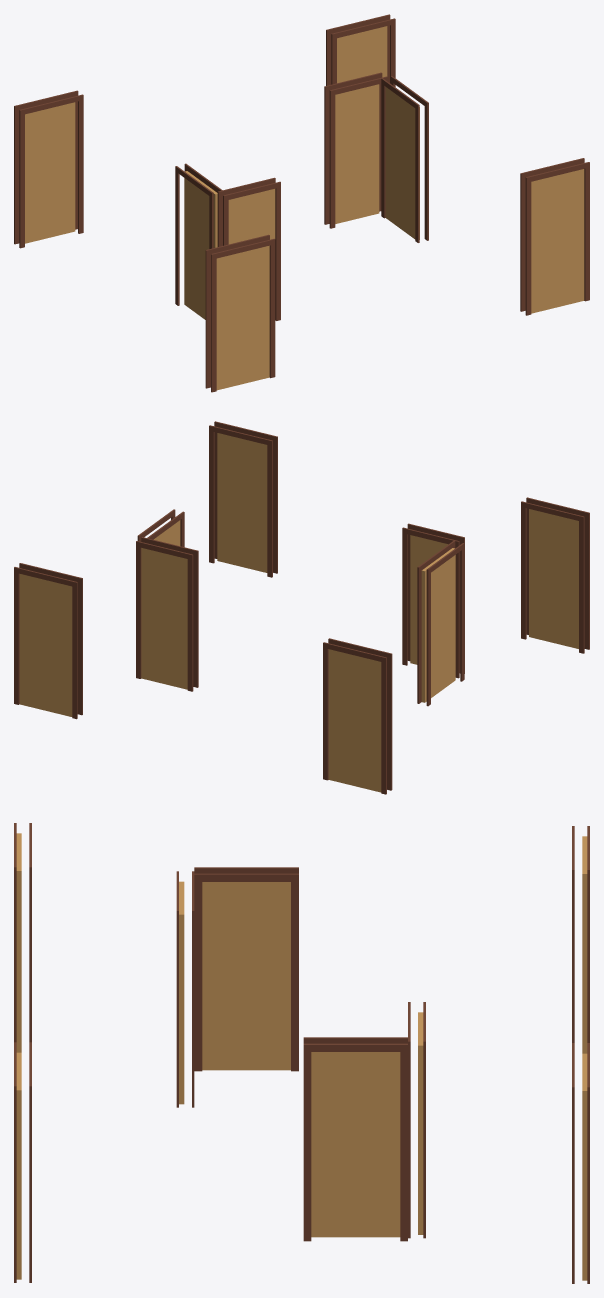
File: Duplex_A_20110907_Level_2_IfcDoor.dae
The picture shows the model from 3 angles, top to bottom: view 1: azimuth 30°, elevation 25°; view 2: azimuth 150°, elevation 25°; view 3: azimuth 270°, elevation 25°; orthographic projection. The views are drawn at different scales.
Visible parts, largest first — view 1: 2OBrcmyk58NupXoVOHUuXp, 1hOSvn6df7F8_7GcBWlSDm, 1hOSvn6df7F8_7GcBWlSFK, 1aj$VJZFn2TxepZUBcKpac, 2OBrcmyk58NupXoVOHUvPL, 2OBrcmyk58NupXoVOHUvR4, 1aj$VJZFn2TxepZUBcKp$i, 2OBrcmyk58NupXoVOHUvVV; view 2: 1hOSvn6df7F8_7GcBWlSFK, 2OBrcmyk58NupXoVOHUvVV, 1hOSvn6df7F8_7GcBWlSDm, 2OBrcmyk58NupXoVOHUuXp, 1aj$VJZFn2TxepZUBcKpac, 2OBrcmyk58NupXoVOHUvR4, 1aj$VJZFn2TxepZUBcKp$i, 2OBrcmyk58NupXoVOHUvPL; view 3: 2OBrcmyk58NupXoVOHUvR4, 2OBrcmyk58NupXoVOHUvPL, 1aj$VJZFn2TxepZUBcKp$i, 2OBrcmyk58NupXoVOHUvVV, 1hOSvn6df7F8_7GcBWlSDm, 1aj$VJZFn2TxepZUBcKpac, 2OBrcmyk58NupXoVOHUuXp, 1hOSvn6df7F8_7GcBWlSFK.
Part boxes in pixels (x1,y1,x2,y2): 2OBrcmyk58NupXoVOHUuXp: (205, 234, 275, 392); 1hOSvn6df7F8_7GcBWlSDm: (520, 158, 589, 315); 1hOSvn6df7F8_7GcBWlSFK: (14, 90, 83, 248); 1aj$VJZFn2TxepZUBcKpac: (324, 72, 387, 228); 2OBrcmyk58NupXoVOHUvPL: (381, 76, 428, 242); 2OBrcmyk58NupXoVOHUvR4: (175, 163, 222, 319); 1aj$VJZFn2TxepZUBcKp$i: (217, 177, 280, 320); 2OBrcmyk58NupXoVOHUvVV: (326, 14, 395, 86); 1hOSvn6df7F8_7GcBWlSFK: (323, 638, 392, 794); 2OBrcmyk58NupXoVOHUvVV: (14, 563, 82, 719); 1hOSvn6df7F8_7GcBWlSDm: (209, 421, 277, 577); 2OBrcmyk58NupXoVOHUuXp: (521, 497, 589, 653); 1aj$VJZFn2TxepZUBcKpac: (136, 537, 198, 691); 2OBrcmyk58NupXoVOHUvR4: (417, 540, 464, 706); 1aj$VJZFn2TxepZUBcKp$i: (402, 523, 464, 678); 2OBrcmyk58NupXoVOHUvPL: (137, 509, 184, 547); 2OBrcmyk58NupXoVOHUvR4: (194, 867, 298, 1071); 2OBrcmyk58NupXoVOHUvPL: (303, 1037, 407, 1241); 1aj$VJZFn2TxepZUBcKp$i: (176, 871, 194, 1107); 2OBrcmyk58NupXoVOHUvVV: (572, 1043, 589, 1283); 1hOSvn6df7F8_7GcBWlSDm: (14, 1042, 31, 1282); 1aj$VJZFn2TxepZUBcKpac: (408, 1002, 425, 1238); 2OBrcmyk58NupXoVOHUuXp: (14, 823, 31, 1052); 1hOSvn6df7F8_7GcBWlSFK: (572, 826, 589, 1053).
Size of the model in its own units: 6.08 by 5.6 by 2.11.
